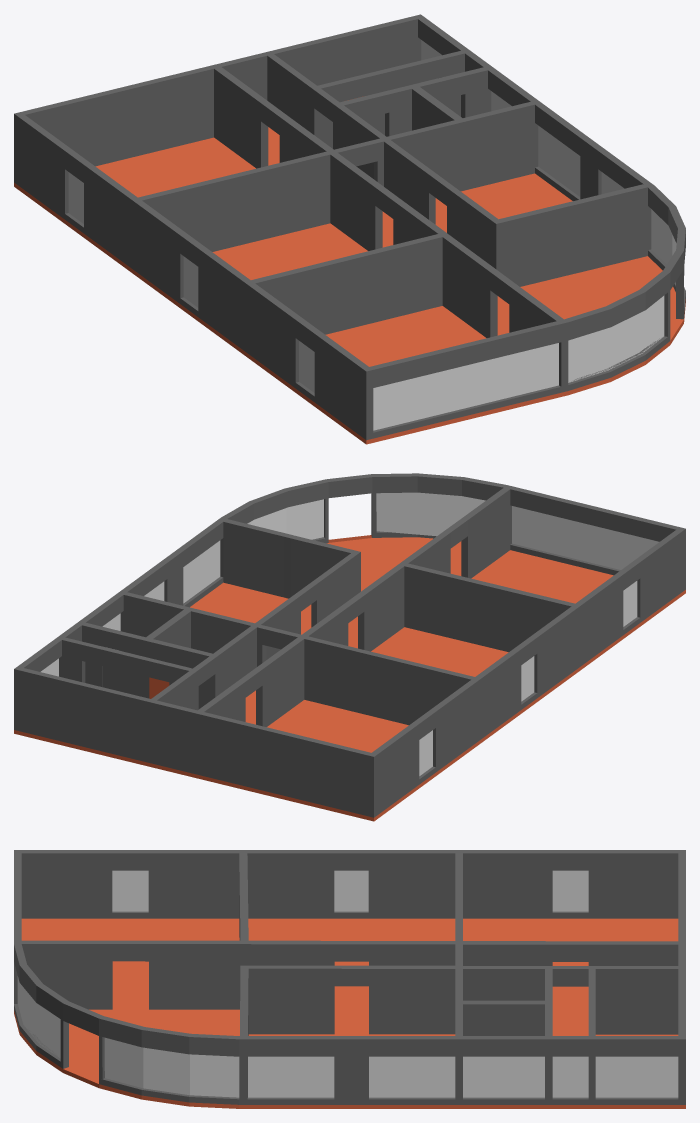
Rendered from office final 9.fbx.
The picture shows the model from 3 angles, top to bottom: view 1: azimuth 30°, elevation 25°; view 2: azimuth 150°, elevation 25°; view 3: azimuth 270°, elevation 25°; orthographic projection. The views are drawn at different scales.
Visible parts, largest first — view 1: Cube, Cube.001, Cube.002; view 2: Cube, Cube.001, Cube.002; view 3: Cube, Cube.001, Cube.002.
Part boxes in pixels (x1=…): Cube: x1=138, y1=17, x2=685, y2=430; Cube.001: x1=14, y1=14, x2=424, y2=434; Cube.002: x1=14, y1=127, x2=685, y2=444; Cube: x1=18, y1=473, x2=679, y2=724; Cube.001: x1=14, y1=527, x2=685, y2=812; Cube.002: x1=14, y1=530, x2=685, y2=821; Cube: x1=14, y1=853, x2=685, y2=1099; Cube.001: x1=14, y1=850, x2=685, y2=1099; Cube.002: x1=14, y1=911, x2=685, y2=1108.
Size of the model in its own units: 800 by 137 by 1200.
